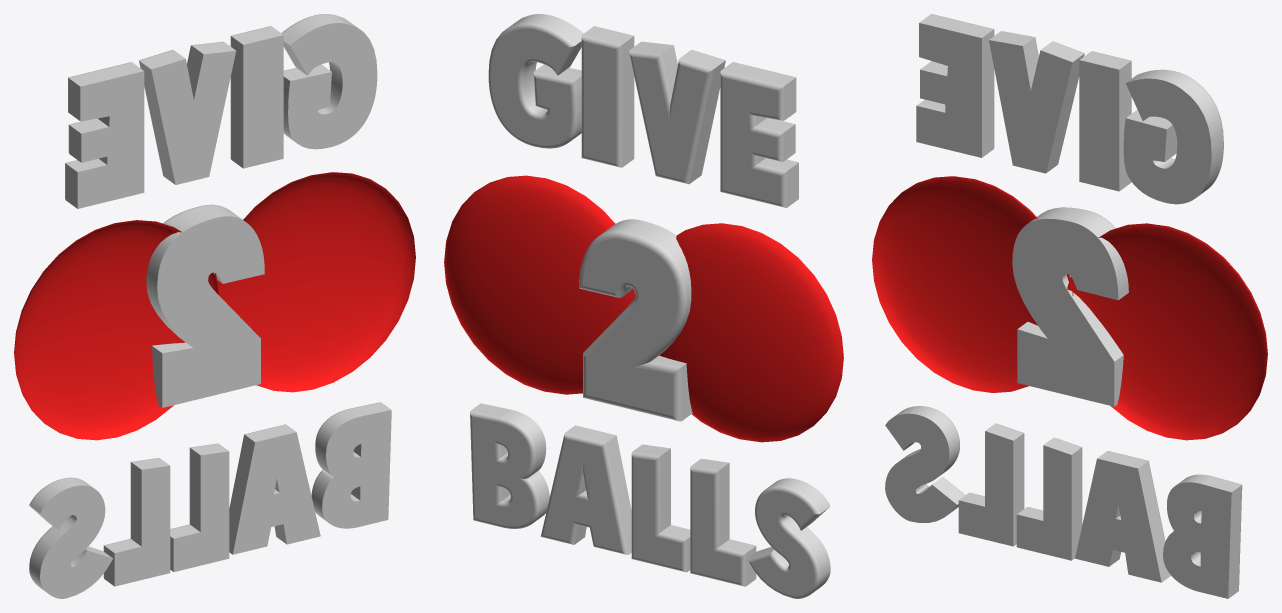
Rendered from Give2Balls.fbx.
3 views of the same model, side by side, from view 1: azimuth 30°, elevation 25°; view 2: azimuth 150°, elevation 25°; view 3: azimuth 330°, elevation 25° (orthographic).
Visible parts, largest first — view 1: TextPlus010; view 2: TextPlus010; view 3: TextPlus010.
Part boxes in pixels (box(x1,y1,x2,y2)): TextPlus010: box(14, 14, 415, 598); TextPlus010: box(444, 14, 843, 598); TextPlus010: box(872, 14, 1267, 598).
Size of the model in its own units: 49.84 by 5.89 by 60.9.
